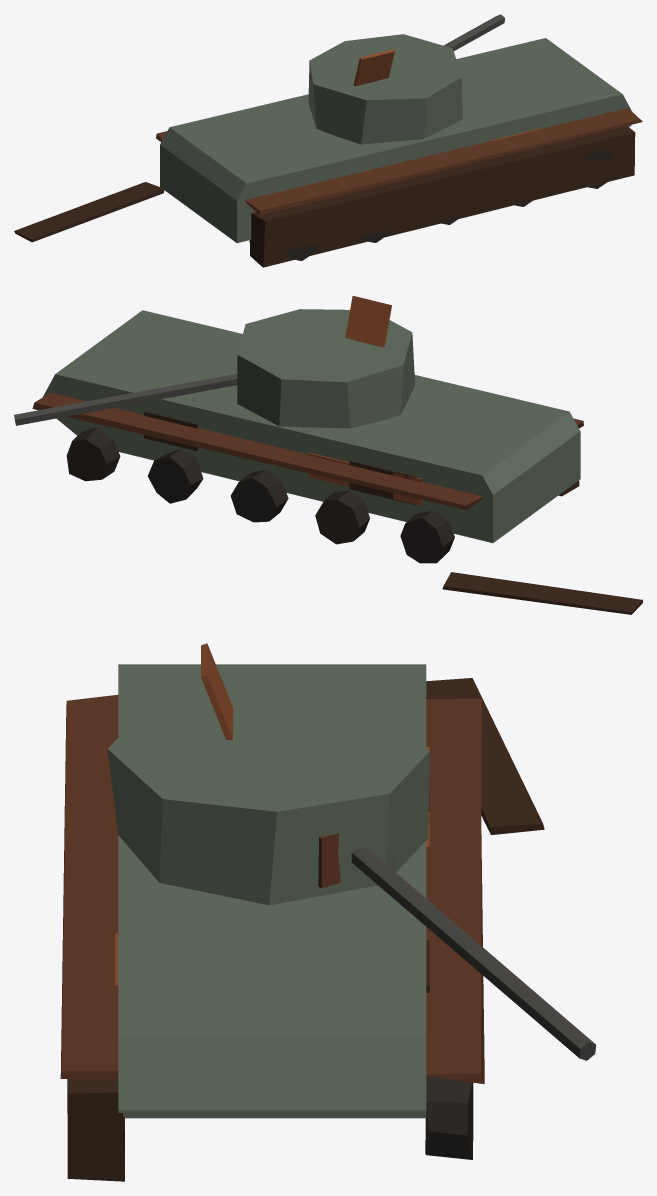
The model's file is tank_hulk.glb.
3 views of the same model, one above another, from view 1: azimuth 30°, elevation 25°; view 2: azimuth 150°, elevation 25°; view 3: azimuth 270°, elevation 25° (orthographic). The views are drawn at different scales.
Parts seen in each view (by area): view 1: tank_hulk; view 2: tank_hulk; view 3: tank_hulk.
Boxes of the visible parts, box(x1,y1,x2,y2) form: tank_hulk: box(14, 14, 642, 267); tank_hulk: box(14, 296, 642, 614); tank_hulk: box(60, 643, 595, 1181).
Size of the model in its own units: 11.22 by 3.18 by 4.87.
